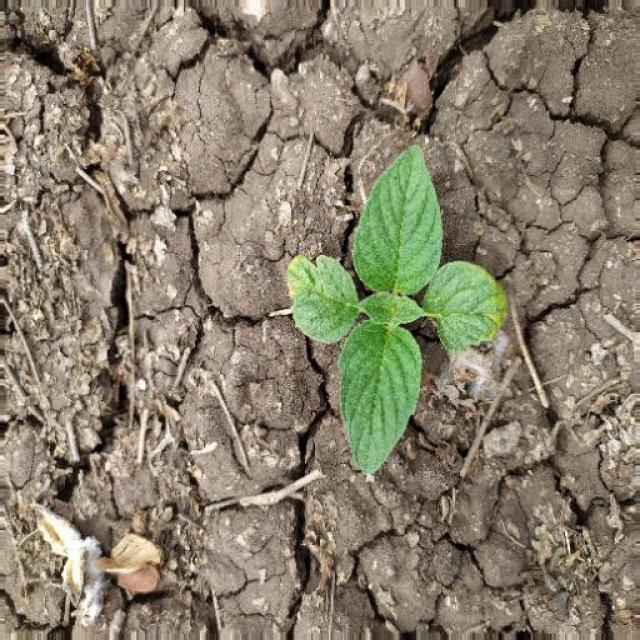crop: (280, 137, 516, 495)
